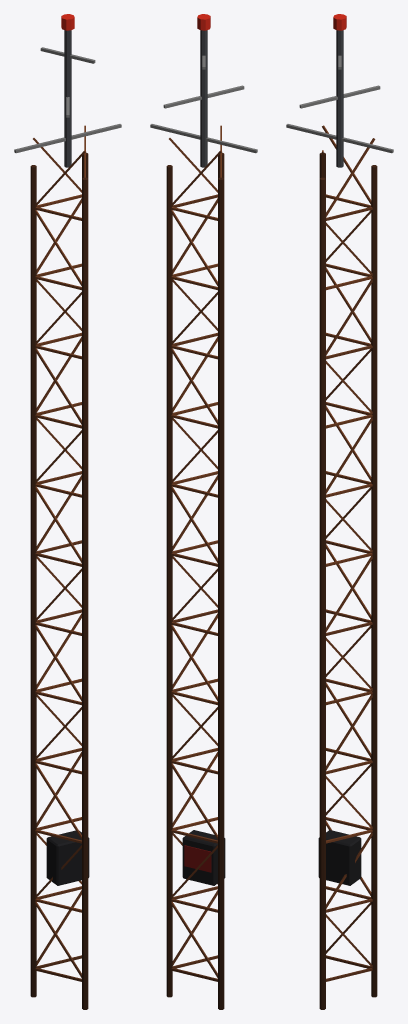
Rendered from antenna_mast.glb.
3 renders of one model, left to right at view 1: azimuth 30°, elevation 25°; view 2: azimuth 150°, elevation 25°; view 3: azimuth 330°, elevation 25°, orthographic.
Visible parts, largest first — view 1: antenna_mast; view 2: antenna_mast; view 3: antenna_mast.
Boxes of the visible parts, left/top/right/bottom form: antenna_mast: left=14, top=14, right=121, bottom=1009; antenna_mast: left=150, top=14, right=257, bottom=1009; antenna_mast: left=286, top=14, right=393, bottom=1009.
Size of the model in its own units: 1.6 by 14.16 by 1.06.
